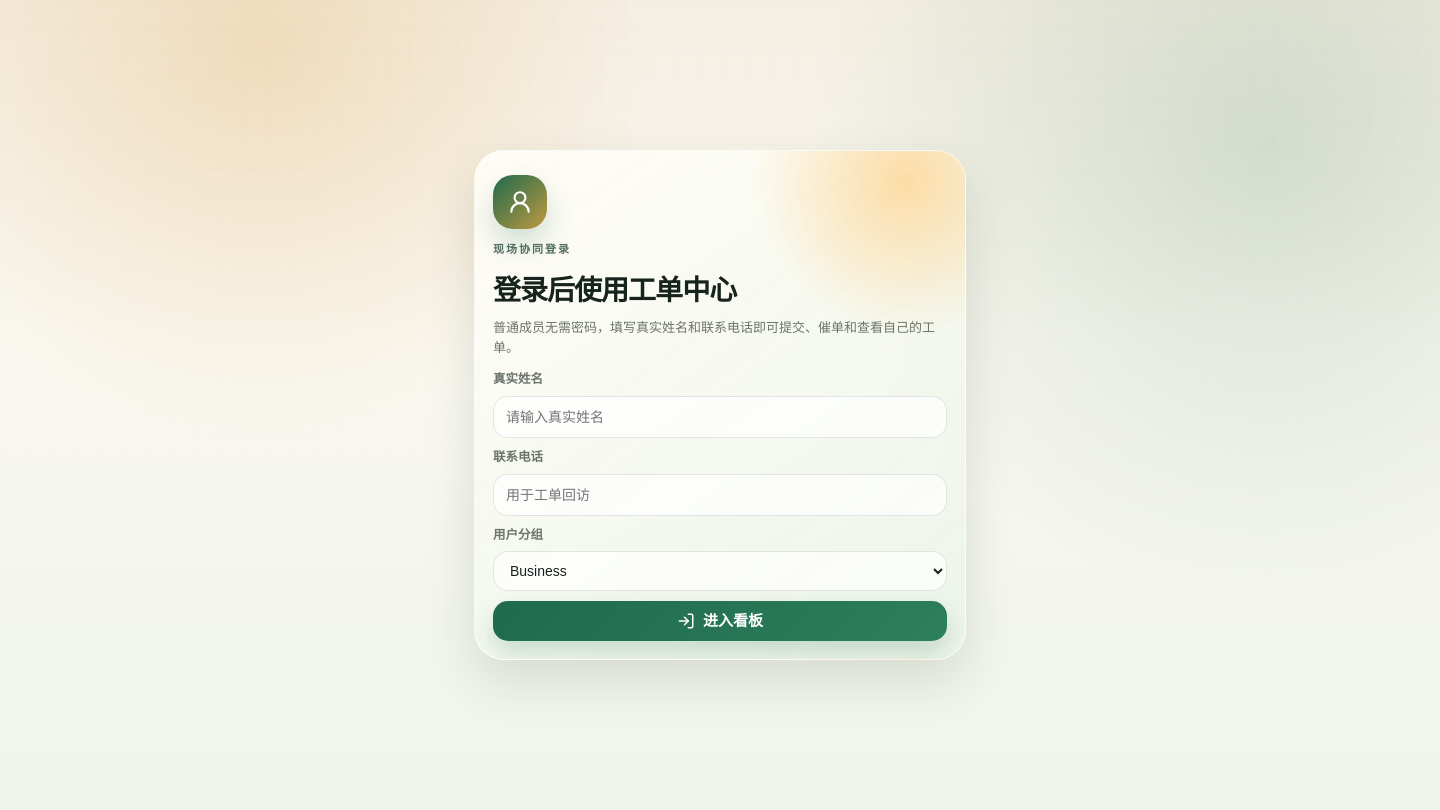
Test: login and role access › posts member login to the mobile auth route before using the board
This screenshot has width=1440, height=810.
Type "Alice" into the field named "name" at (720, 417), box [493,396,947,438]
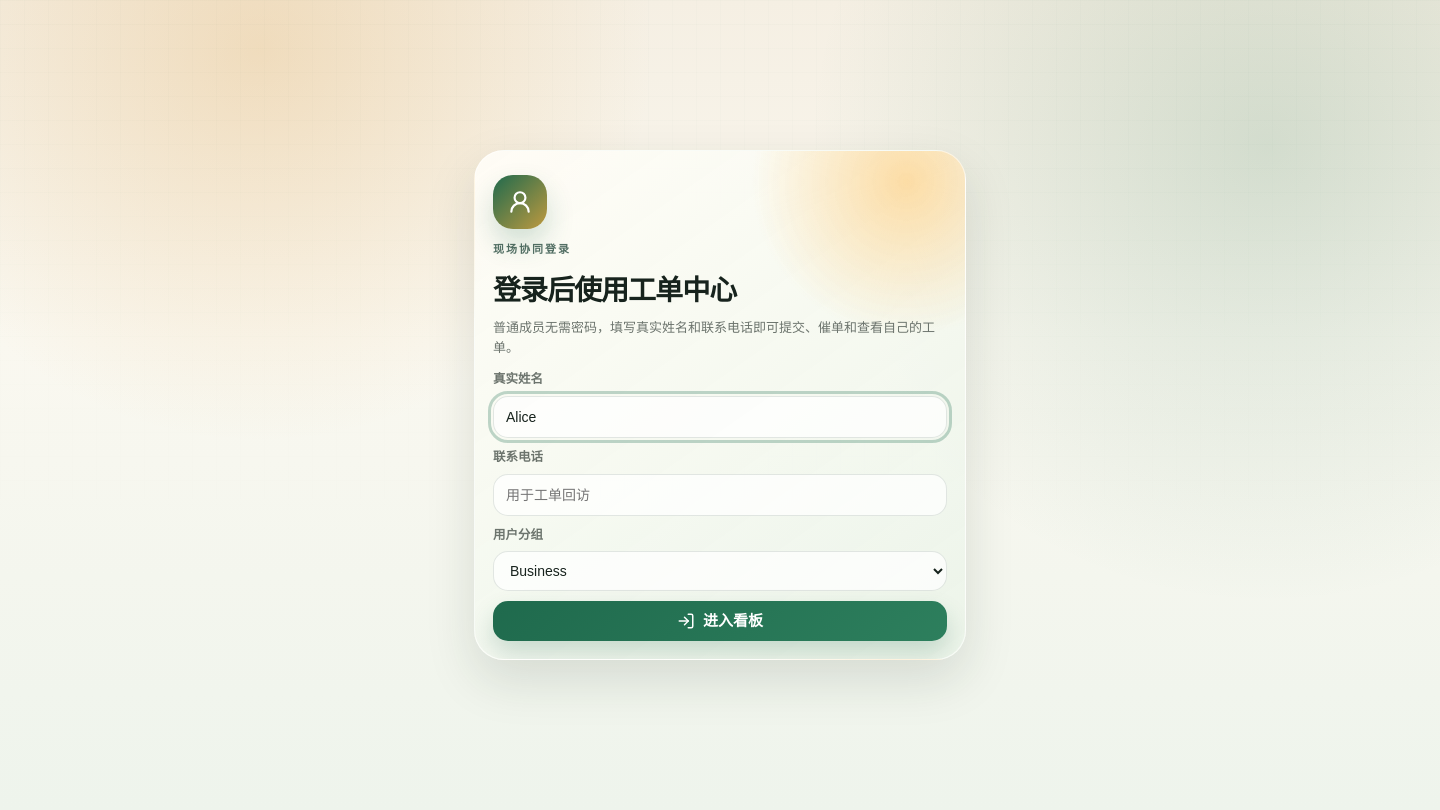
Type "13800138000" into the field named "phone" at (720, 495), box [493,474,947,516]
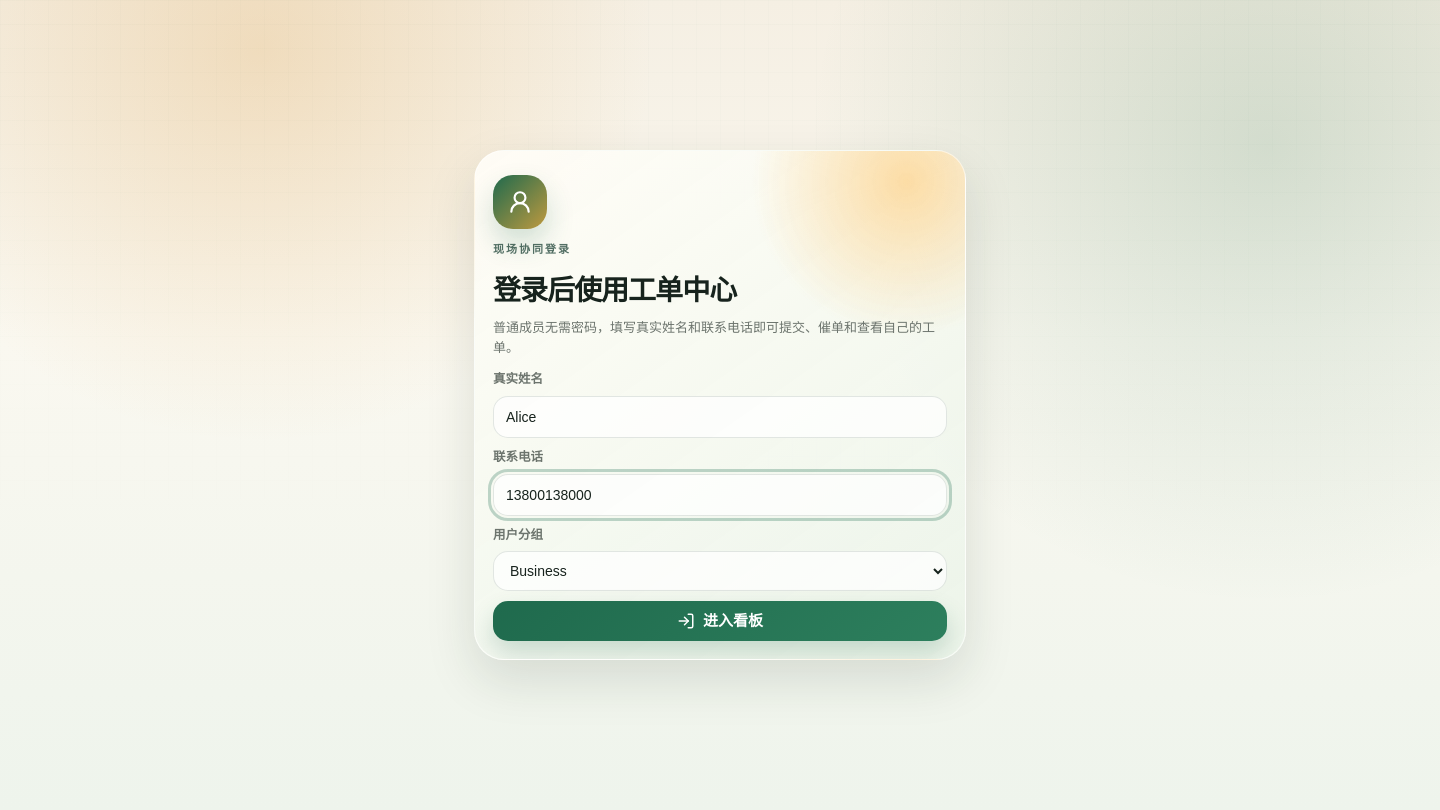
Select "Builder" in the dropdown named "groupId" at (720, 571), box [493,551,947,591]
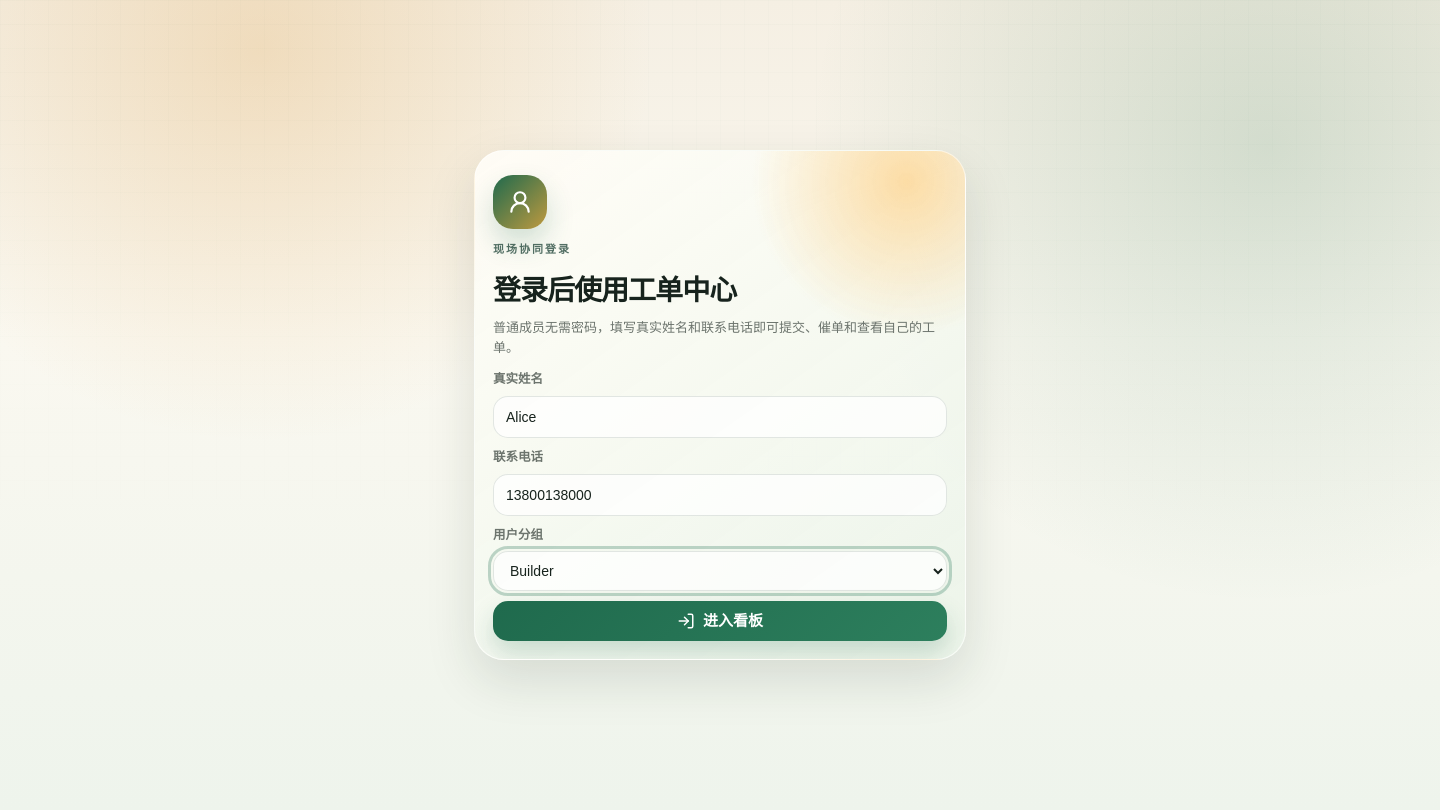
Click the submit button at (720, 621), box [493,601,947,641]
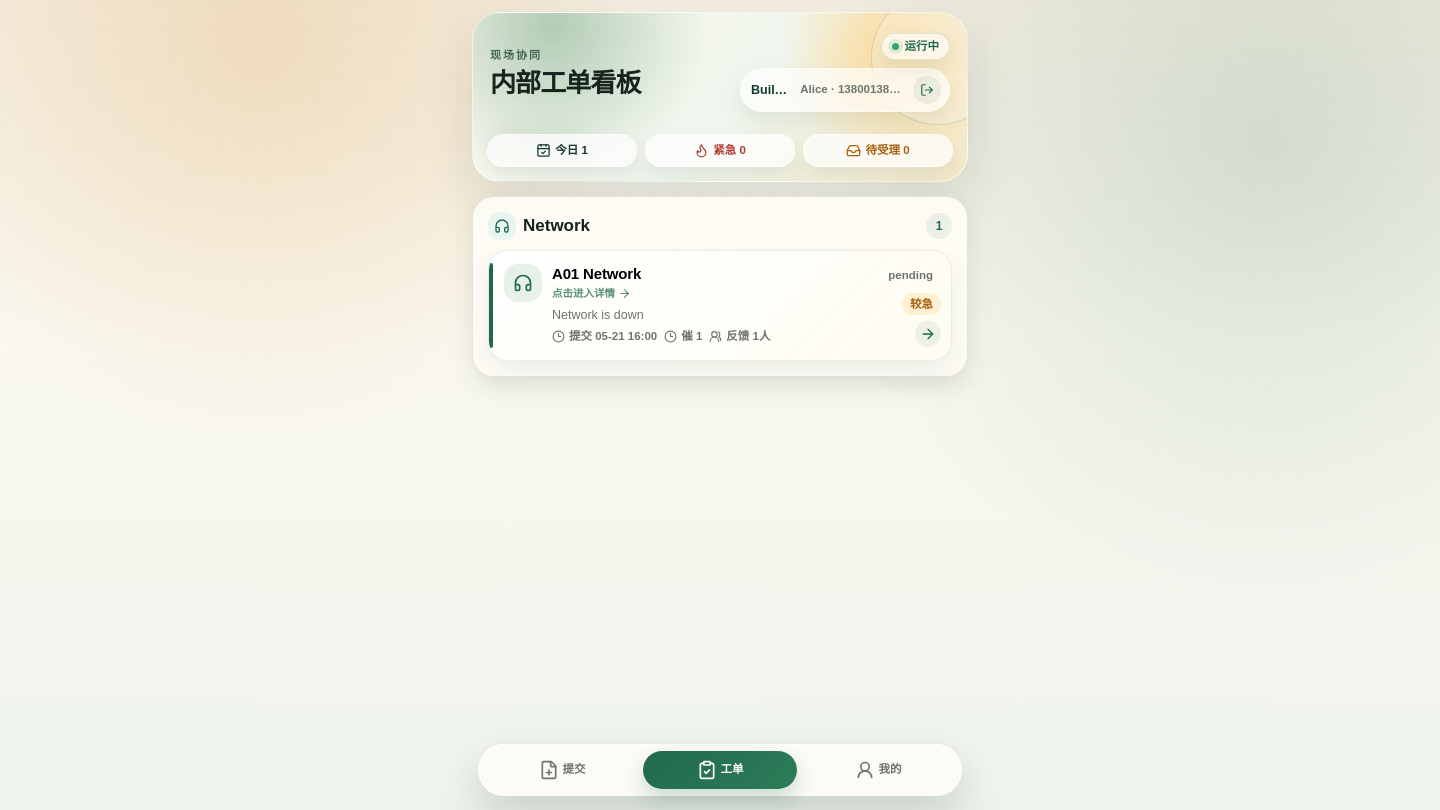
Check: the text "A01 Network" is shown, box [552,265,641,282]
Check: the element with class "hero-user" shows "Builder", box [751,83,794,97]
Check: the element with class "hero-user" shows "Alice", box [800,83,908,95]
